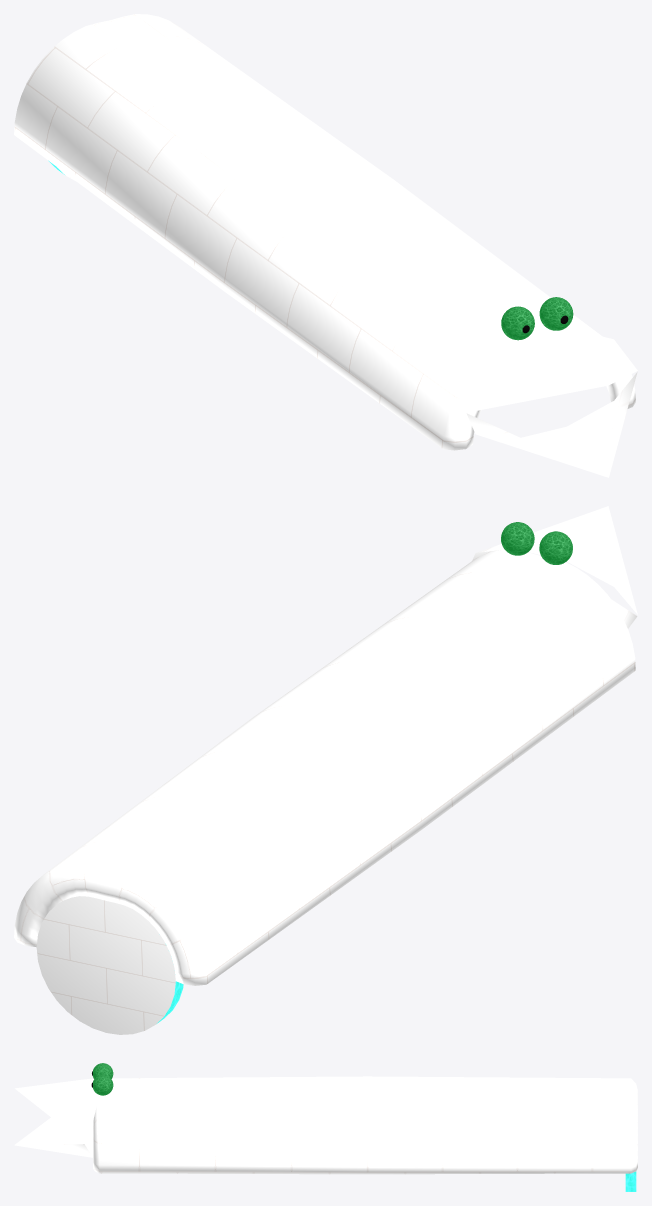
File: igloocolliderwdoors.glb
The picture shows the model from 3 angles, top to bottom: view 1: azimuth 30°, elevation 25°; view 2: azimuth 150°, elevation 25°; view 3: azimuth 270°, elevation 25°; orthographic projection. The views are drawn at different scales.
Parts seen in each view (by area): view 1: igloo, topbeak, bottombeak, lEYE, rEYE; view 2: igloo, backdoor, topbeak, lEYE, rEYE; view 3: igloo, topbeak, bottombeak, rEYE, lEYE, backdoor.
Part boxes in pixels (box(x1,y1,x2,y2)): igloo: box(14, 14, 635, 450); topbeak: box(467, 328, 637, 412); bottombeak: box(466, 372, 637, 477); lEYE: box(501, 306, 534, 340); rEYE: box(539, 297, 573, 330); igloo: box(14, 549, 635, 985); backdoor: box(36, 896, 183, 1034); topbeak: box(472, 506, 637, 614); lEYE: box(539, 531, 572, 564); rEYE: box(501, 522, 534, 555); igloo: box(93, 1076, 637, 1174); topbeak: box(15, 1078, 99, 1142); bottombeak: box(14, 1117, 92, 1157); rEYE: box(93, 1074, 113, 1095); lEYE: box(92, 1063, 113, 1078); backdoor: box(625, 1171, 636, 1191).
Size of what is drawn, in the model's own units: 6.74 by 6.16 by 29.73.
Materials: 4 (3 with a texture image).
